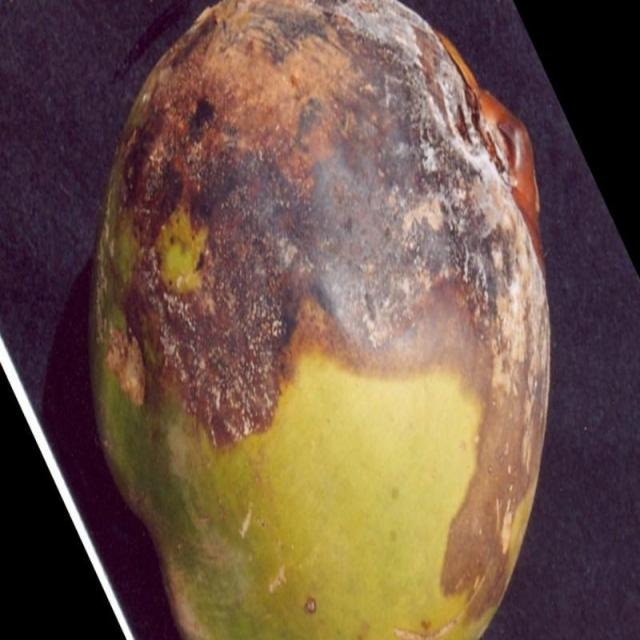damaged: (86, 0, 552, 639)
